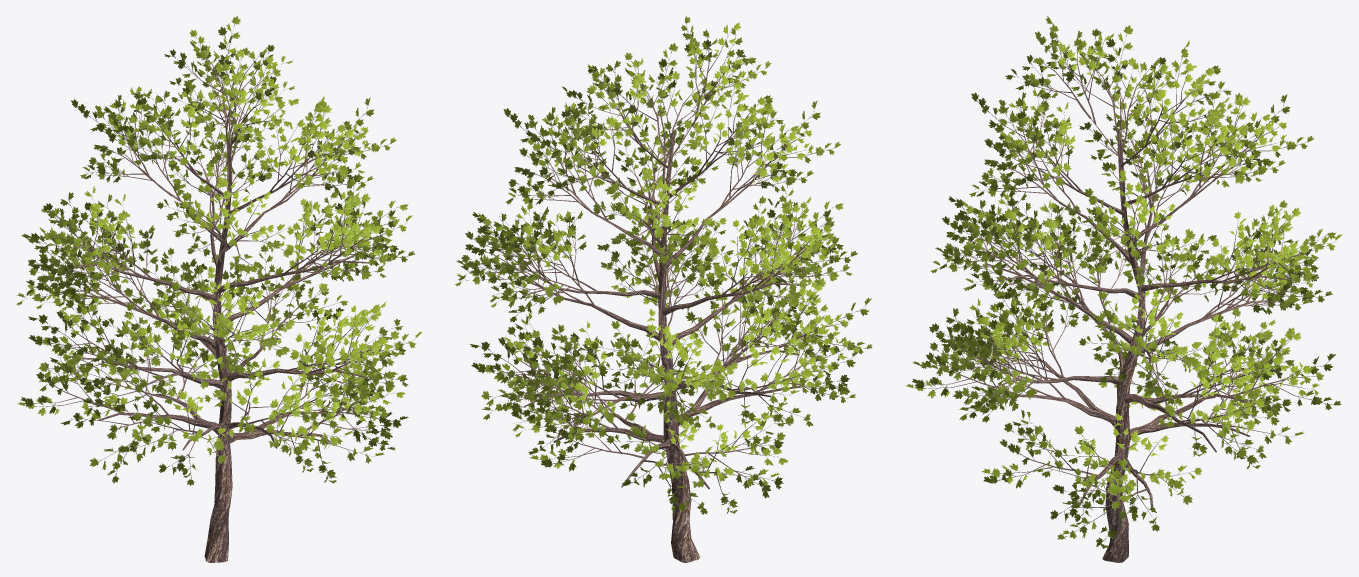
The model's file is OBJ-maple_tree.glb.
3 views of the same model, side by side, from view 1: azimuth 30°, elevation 25°; view 2: azimuth 150°, elevation 25°; view 3: azimuth 270°, elevation 25° (orthographic). The views are drawn at different scales.
Visible parts, largest first — view 1: Tree_1, Tree_0; view 2: Tree_1, Tree_0; view 3: Tree_1, Tree_0.
Part boxes in pixels (x1,y1,x2,y2): Tree_1: (16, 16, 422, 485); Tree_0: (26, 33, 407, 562); Tree_1: (455, 16, 872, 514); Tree_0: (457, 31, 862, 562); Tree_1: (905, 16, 1342, 548); Tree_0: (917, 35, 1327, 562).
Bounding box in the file's own units: 7.54 × 10 × 7.51.
Materials: 2 (2 with a texture image).
